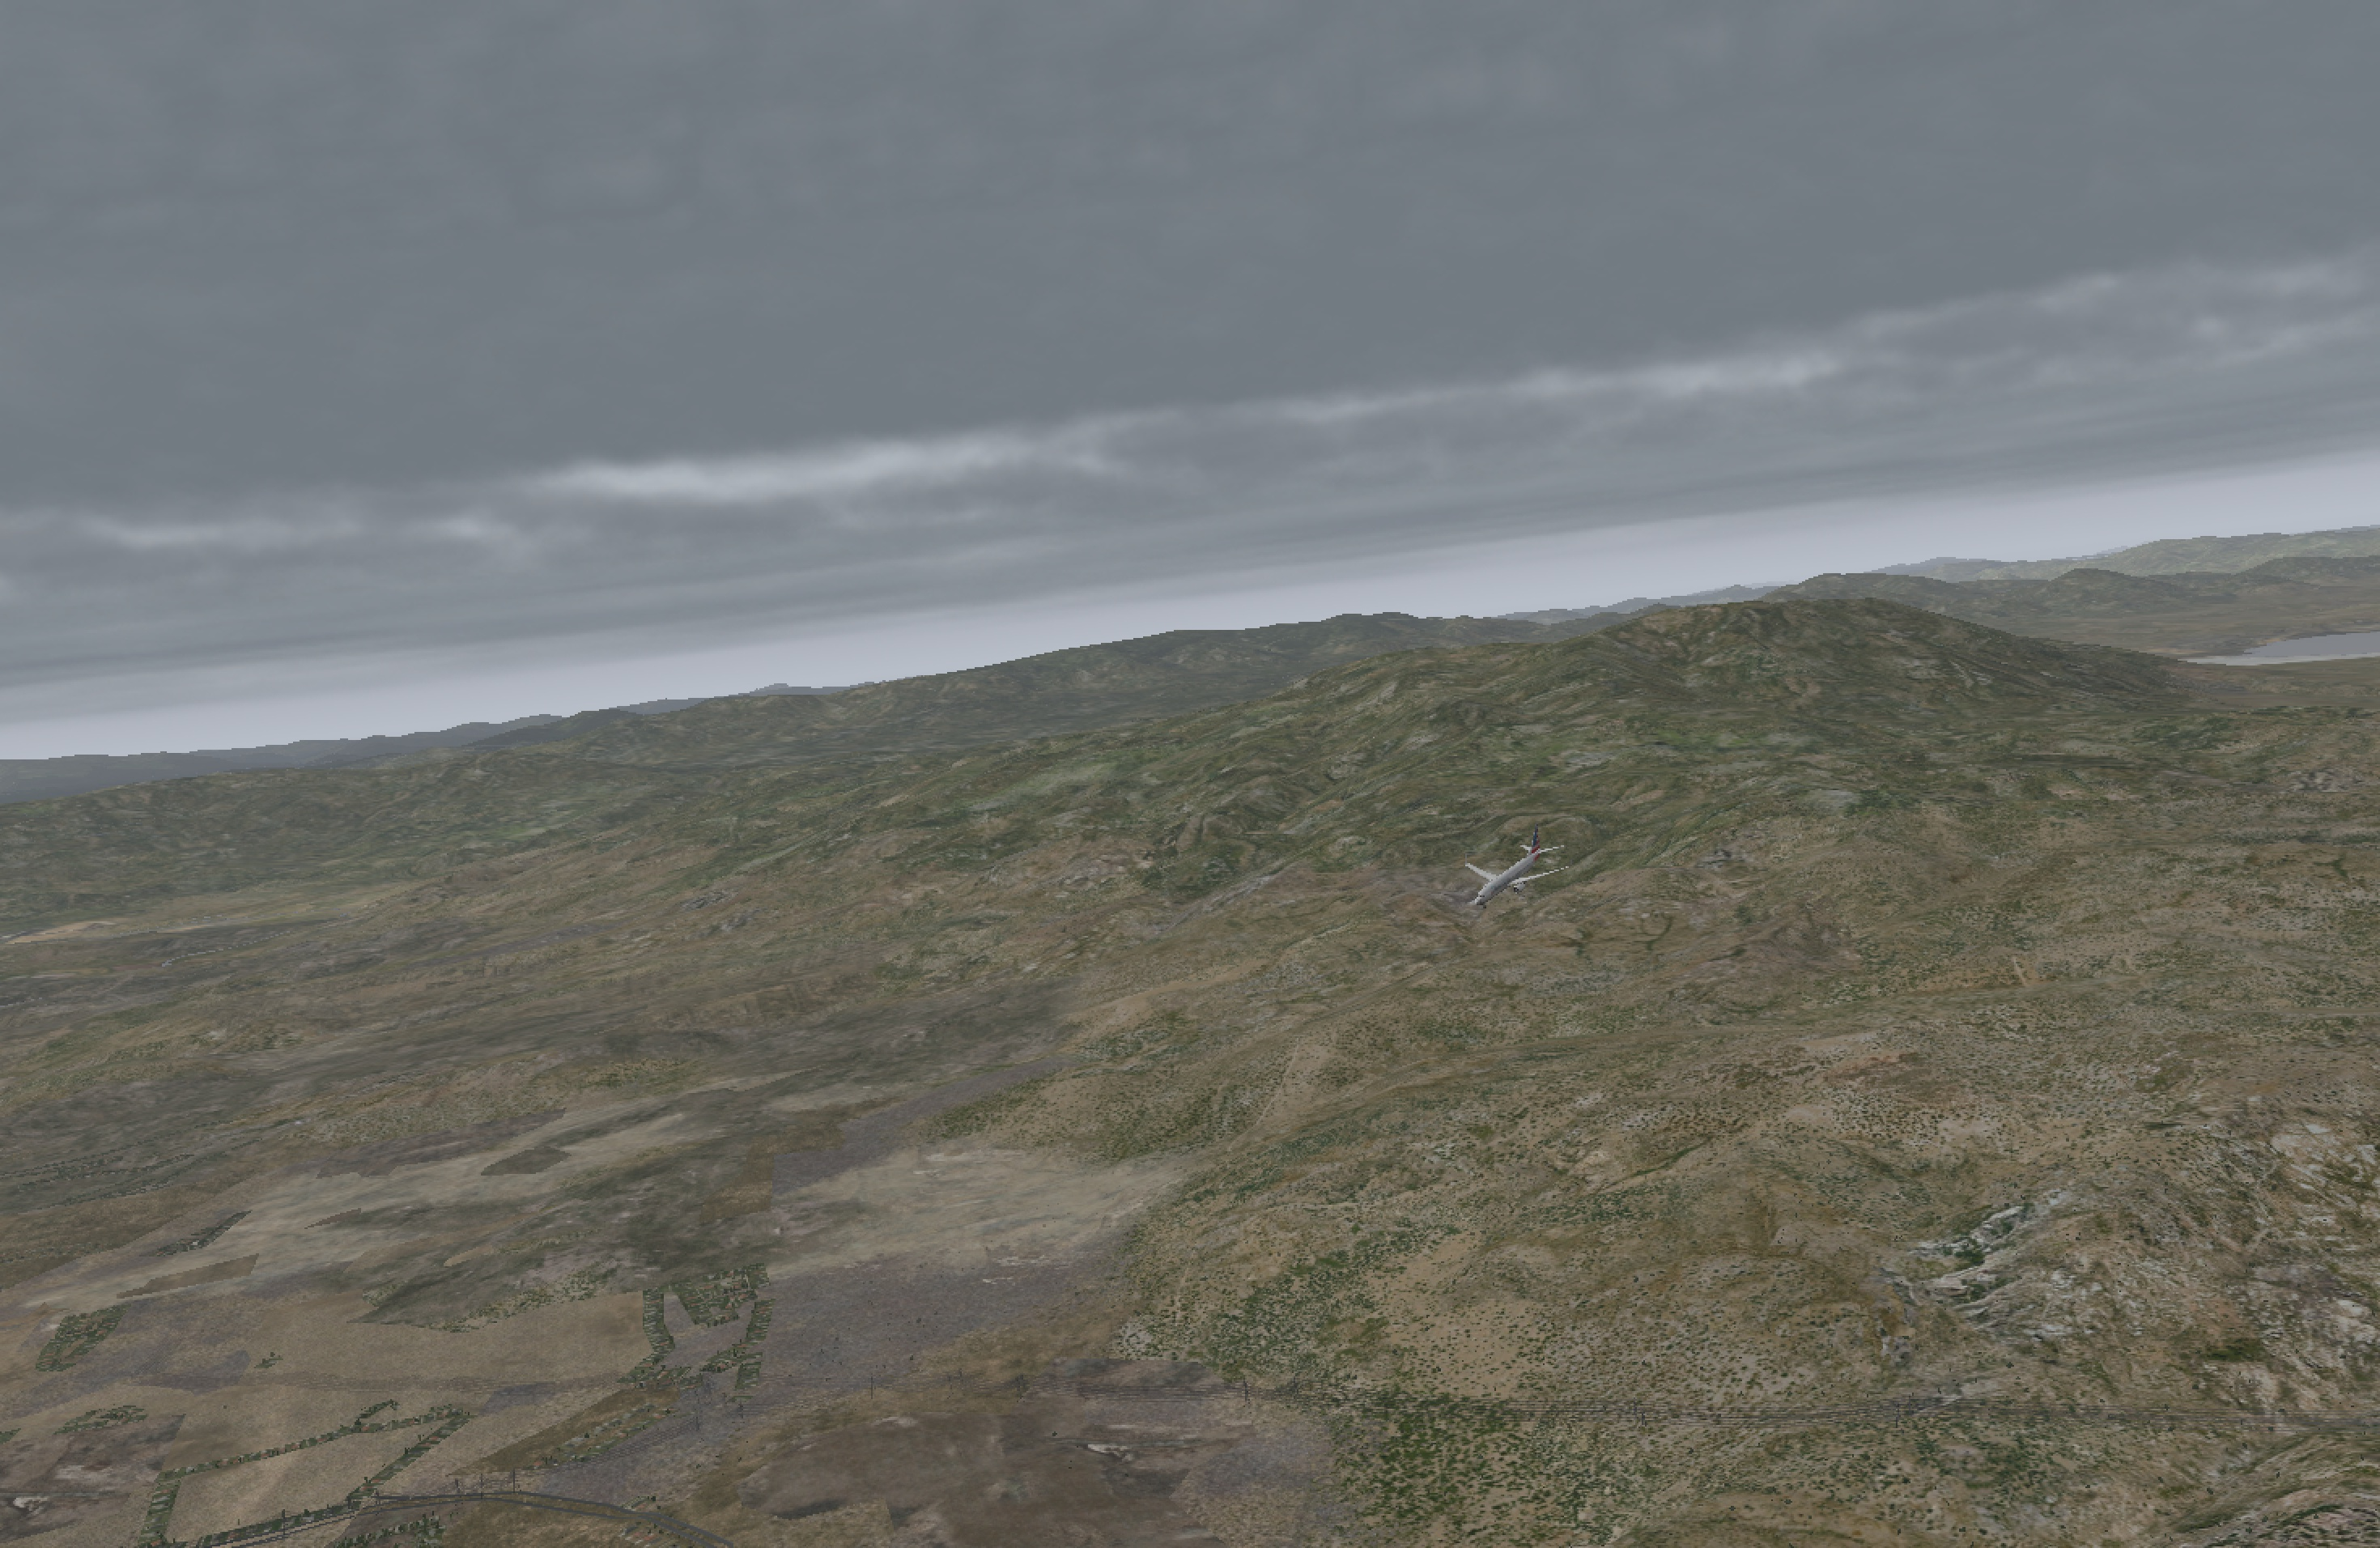aircraft: (1440, 854, 1577, 906)
